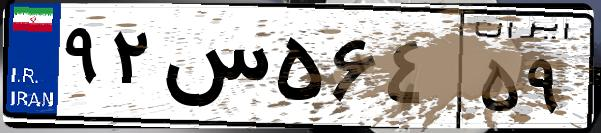2: (110, 28, 158, 98)
4: (385, 28, 445, 110)
5: (270, 28, 330, 110), (475, 38, 525, 113)
6: (330, 28, 385, 110)
9: (57, 26, 110, 100), (525, 38, 570, 115)
س: (158, 20, 270, 120)
